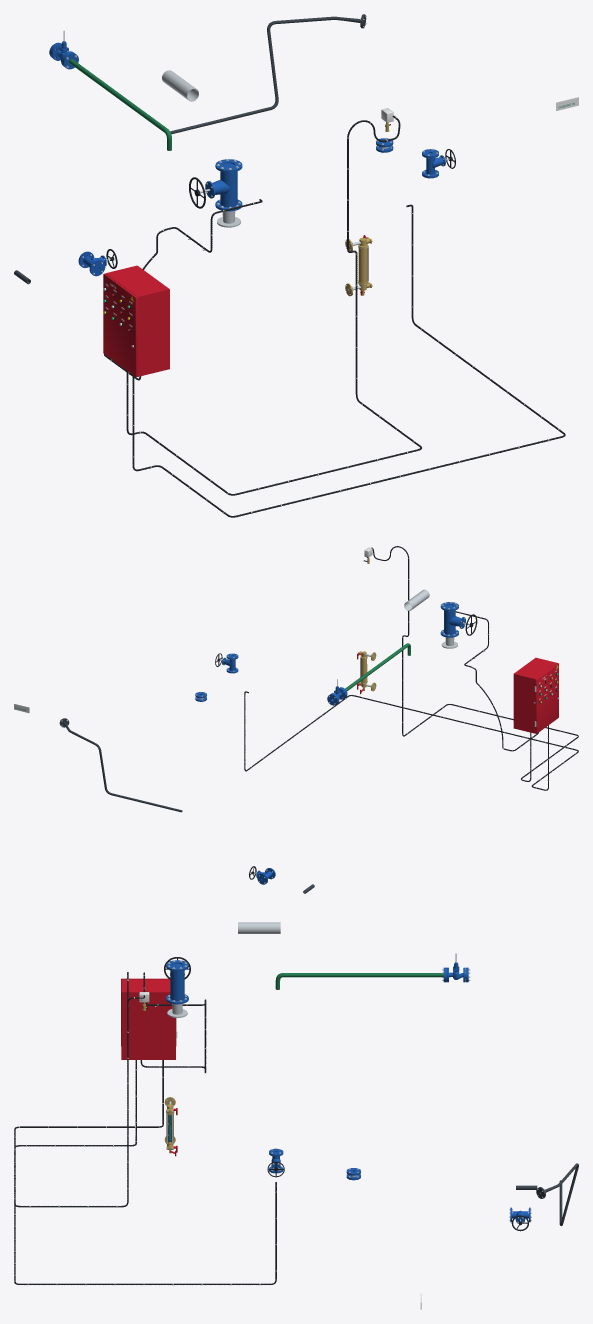
The model's file is s4000-4-C0aXwXbt.glb.
3 views of the same model, one above another, from view 1: azimuth 30°, elevation 25°; view 2: azimuth 150°, elevation 25°; view 3: azimuth 270°, elevation 25° (orthographic). The views are drawn at different scales.
Visible parts, largest first — view 1: control_cabinet / control_cabinet_0.npz, cabinet_door / cabinet_door_5.npz, wiring_pump_1 / black, wiring_pressure_transmitter / black, steam_manual / blue, tds_without_fv / dark, sight_glasses_2 / sight_glasses_2_0.npz, direct_inlet / green; view 2: control_cabinet / control_cabinet_0.npz, cabinet_door / cabinet_door_5.npz, wiring_pump_1 / black, wiring_pressure_transmitter / black, steam_manual / blue, tds_without_fv / dark; view 3: control_cabinet / control_cabinet_0.npz, wiring_pressure_transmitter / black, wiring_pump_1 / black, direct_inlet / green, steam_manual / blue, tds_without_fv / dark, sight_glasses_2 / sight_glasses_2_0.npz, gpz_bypass / steel.
Part boxes in pixels (box(x1,y1,x2,y2)): control_cabinet / control_cabinet_0.npz: box(105, 265, 169, 376); cabinet_door / cabinet_door_5.npz: box(103, 273, 137, 376); wiring_pump_1 / black: box(132, 204, 565, 517); wiring_pressure_transmitter / black: box(126, 115, 421, 495); steam_manual / blue: box(205, 159, 242, 211); tds_without_fv / dark: box(170, 14, 366, 134); sight_glasses_2 / sight_glasses_2_0.npz: box(345, 235, 372, 296); direct_inlet / green: box(69, 59, 171, 150); control_cabinet / control_cabinet_0.npz: box(513, 657, 557, 733); cabinet_door / cabinet_door_5.npz: box(535, 663, 559, 733); wiring_pump_1 / black: box(244, 691, 578, 790); wiring_pressure_transmitter / black: box(371, 546, 578, 781); steam_manual / blue: box(440, 602, 465, 637); tds_without_fv / dark: box(59, 718, 182, 812); control_cabinet / control_cabinet_0.npz: box(121, 979, 177, 1059); wiring_pressure_transmitter / black: box(14, 972, 163, 1207); wiring_pump_1 / black: box(14, 1060, 276, 1284); direct_inlet / green: box(275, 973, 443, 989); steam_manual / blue: box(166, 960, 188, 1004); tds_without_fv / dark: box(536, 1163, 578, 1225); sight_glasses_2 / sight_glasses_2_0.npz: box(164, 1097, 177, 1156); gpz_bypass / steel: box(238, 922, 280, 933).
Bounding box in the file's own units: 5.88 × 2.91 × 5.45.
